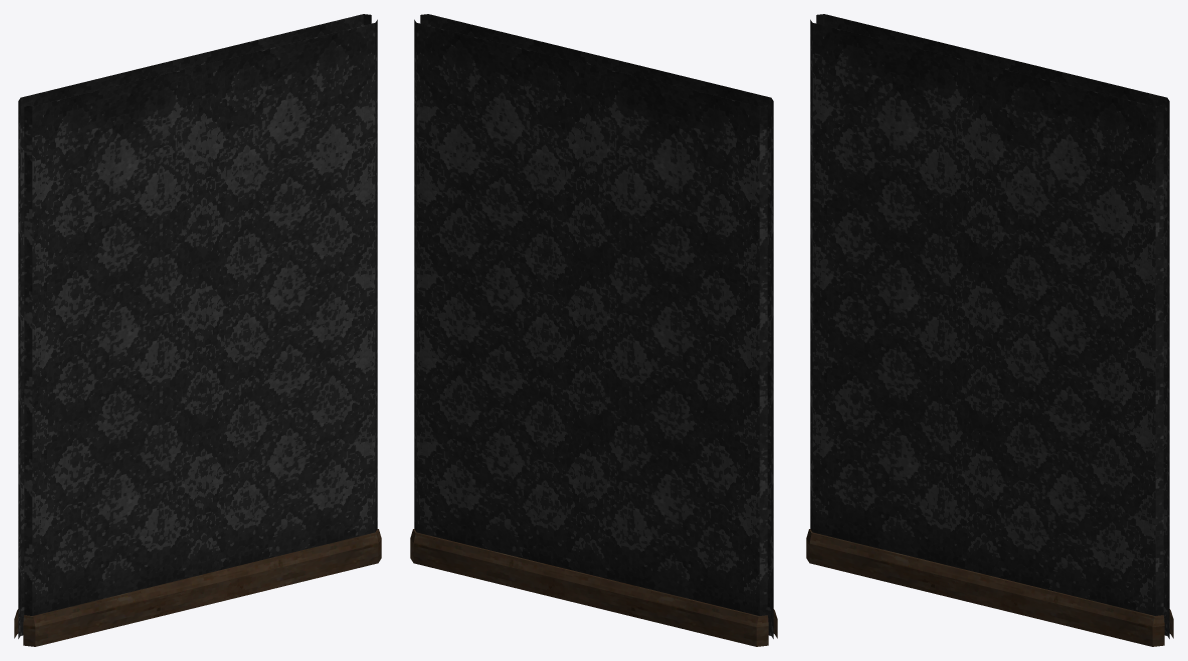
Rendered from wall_1_1_half.fbx.
3 views of the same model, side by side, from view 1: azimuth 30°, elevation 25°; view 2: azimuth 150°, elevation 25°; view 3: azimuth 330°, elevation 25° (orthographic).
Parts seen in each view (by area): view 1: wall_1_1_half; view 2: wall_1_1_half; view 3: wall_1_1_half.
Boxes of the visible parts, <box> form: wall_1_1_half: <box>14,14,381,646</box>; wall_1_1_half: <box>410,14,777,646</box>; wall_1_1_half: <box>806,14,1173,646</box>.
Bounding box in the file's own units: 2.09 × 3 × 0.18.
